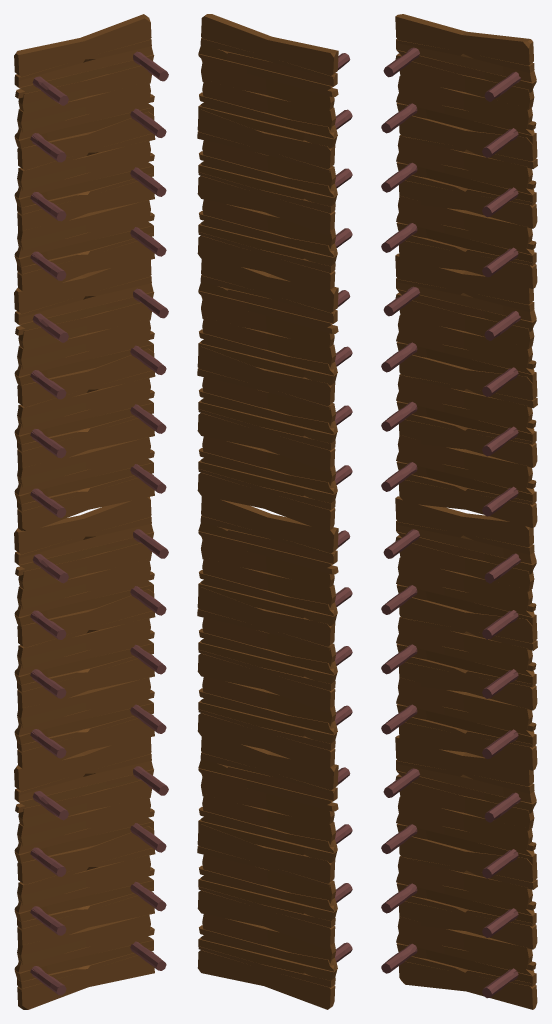
Rendered from Dock.fbx.
The picture shows the model from 3 angles, left to right: view 1: azimuth 30°, elevation 25°; view 2: azimuth 150°, elevation 25°; view 3: azimuth 330°, elevation 25°; orthographic projection.
Parts seen in each view (by area): view 1: Dock; view 2: Dock; view 3: Dock.
Part boxes in pixels (bbox=[...]): Dock: bbox=[14, 14, 168, 1009]; Dock: bbox=[197, 14, 352, 1009]; Dock: bbox=[381, 14, 537, 1009].
Bounding box in the file's own units: 592 × 3979 × 230.
